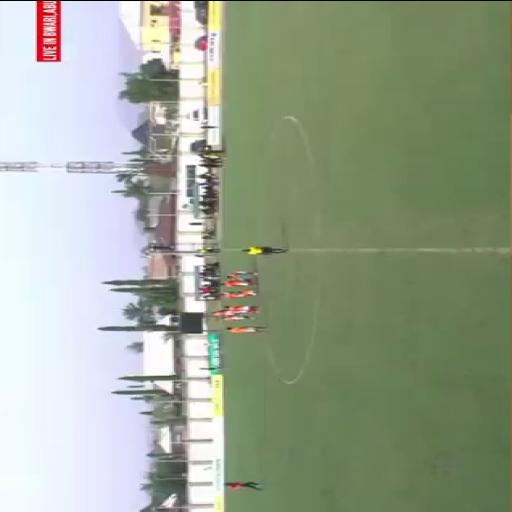keeper1: (217, 477, 275, 495)
referee: (240, 244, 294, 254)
